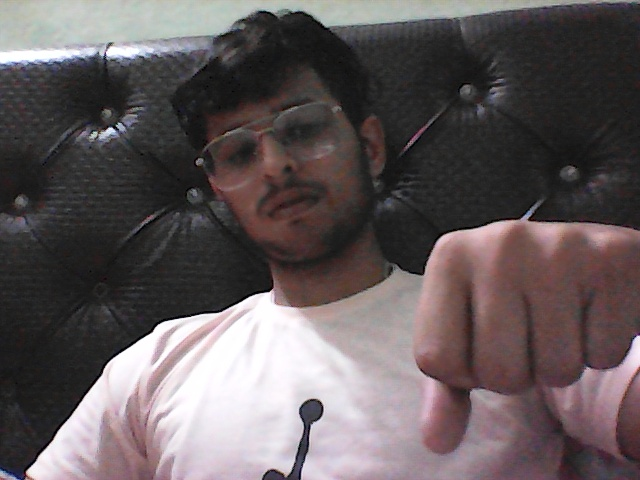yes: (387, 194, 640, 474)
